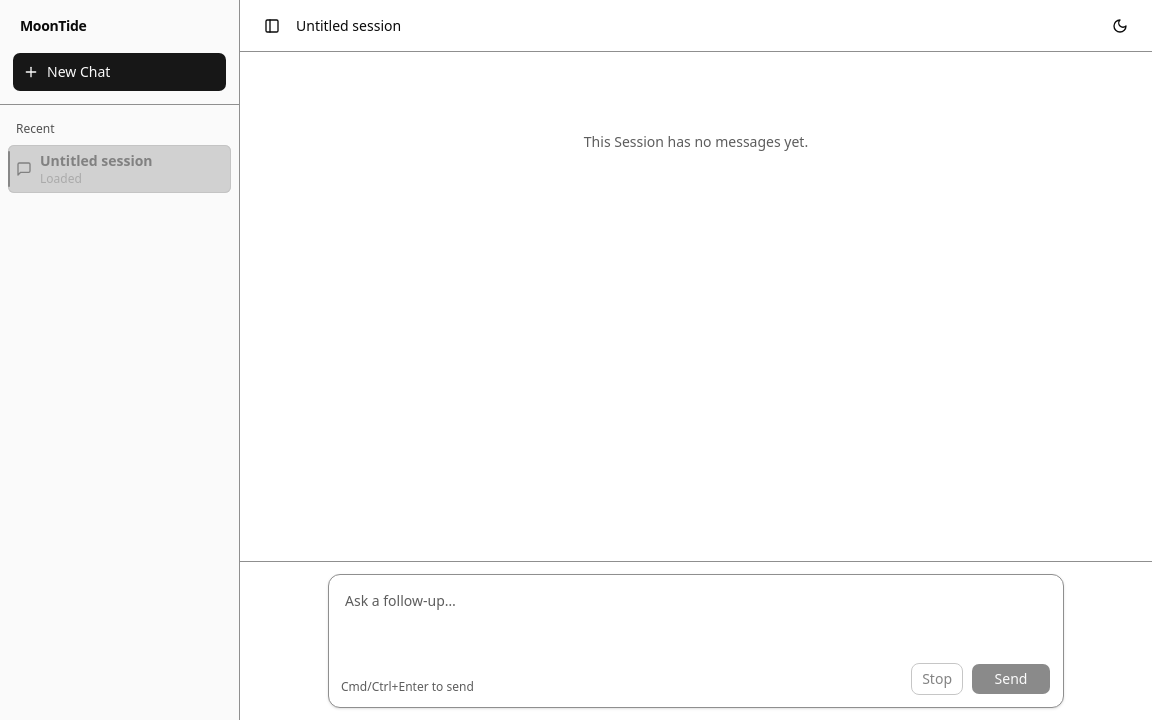
Test: App › maps Controller action failures instead of showing Host strings
Type "hello" into the text box named "Message".
click(696, 623); type("hello")  # box left=337, top=583, right=1055, bottom=663
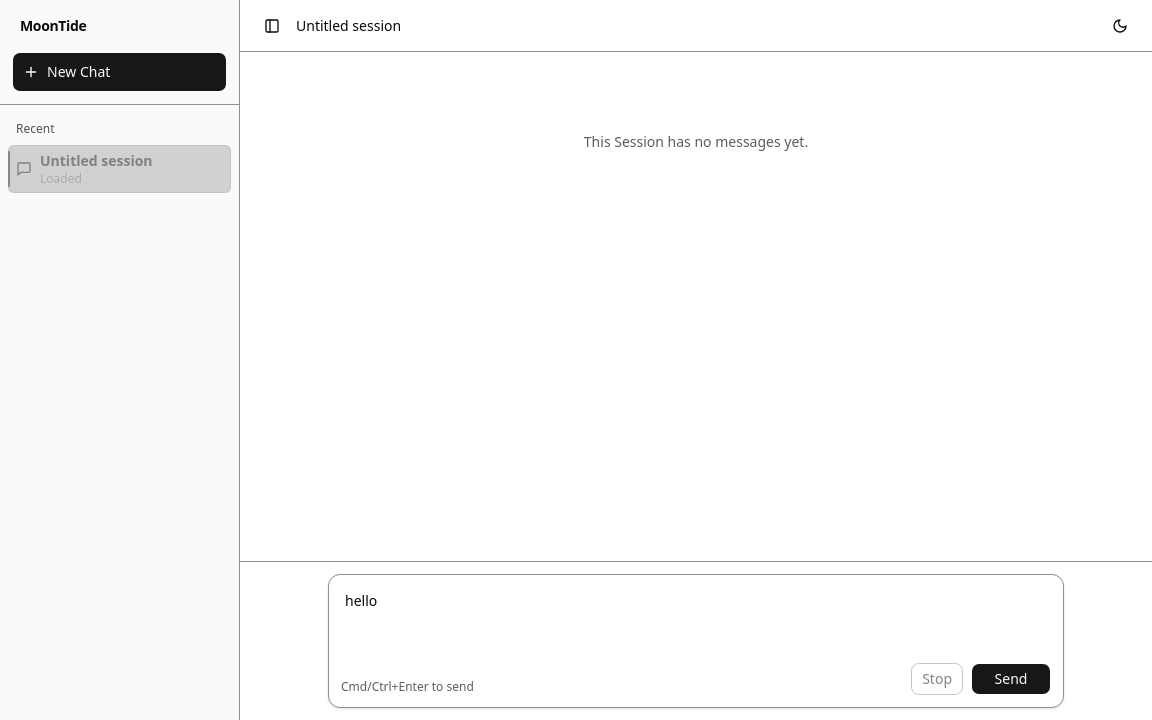
Click the button "Send".
click(1011, 679)  # box left=971, top=663, right=1051, bottom=695
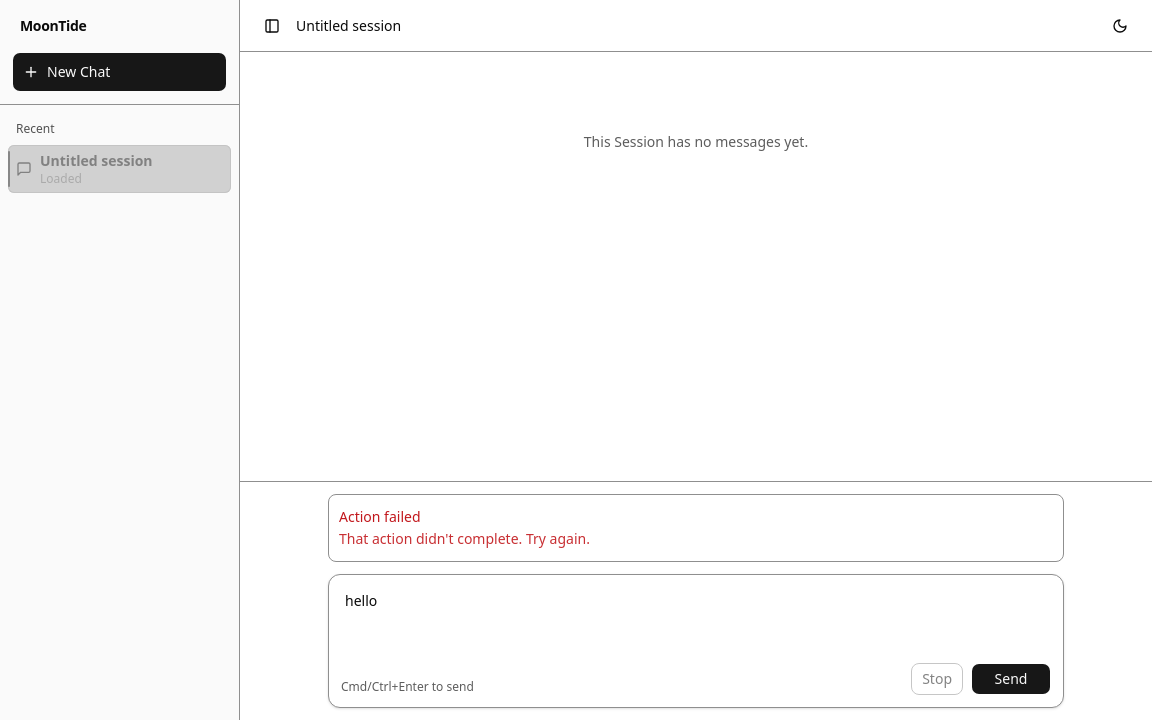
expect the text "Action failed" is shown: met, box left=339, top=507, right=420, bottom=526
expect the text "That action didn't complete. Try again." is shown: met, box left=339, top=529, right=590, bottom=548
